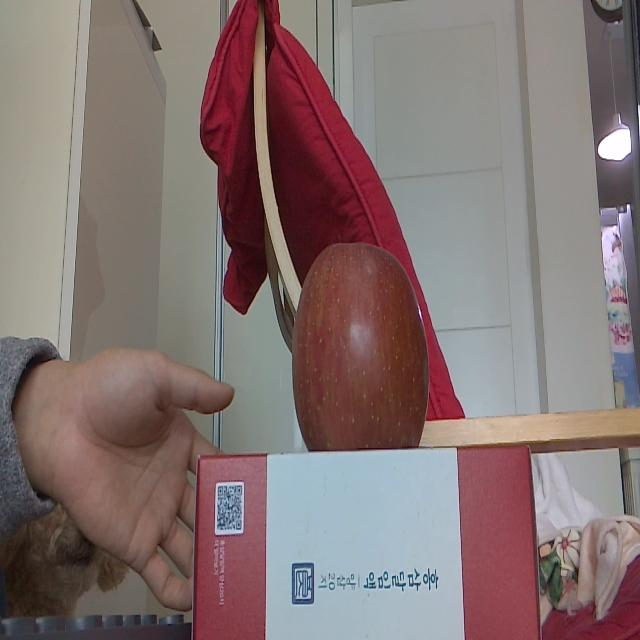apple: (288, 236, 434, 449)
